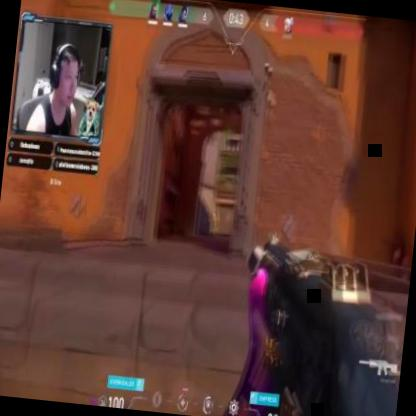enemy: (208, 211, 218, 236)
enemy_head: (212, 212, 216, 218)
